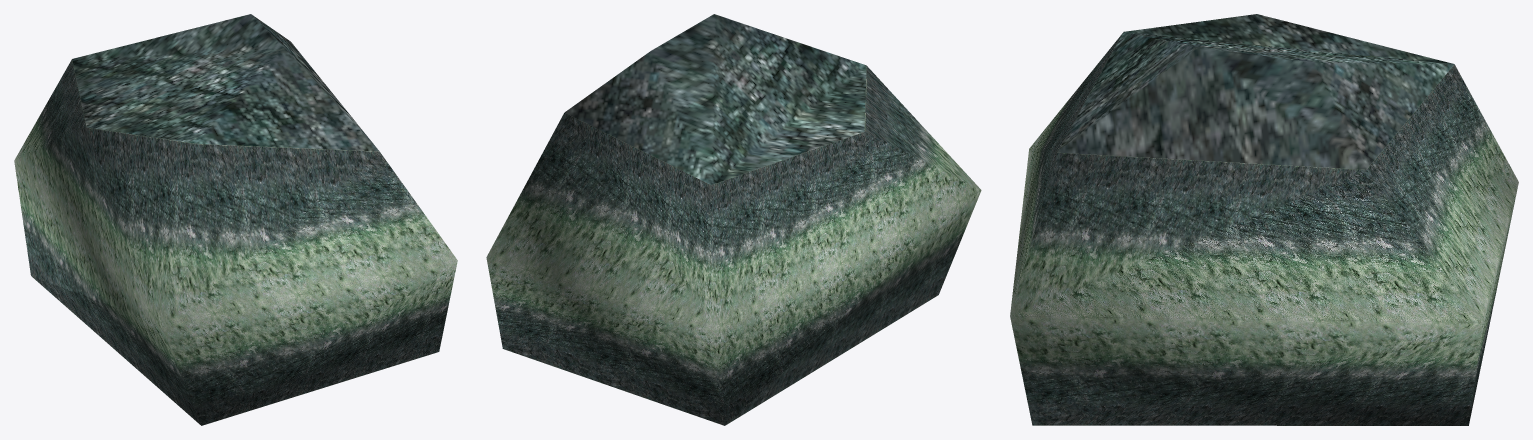
The model's file is rock_beach_dark_md_l3.fbx.
The picture shows the model from 3 angles, left to right: view 1: azimuth 30°, elevation 25°; view 2: azimuth 150°, elevation 25°; view 3: azimuth 270°, elevation 25°; orthographic projection. The views are drawn at different scales.
Visible parts, largest first — view 1: mesh_node; view 2: mesh_node; view 3: mesh_node.
Boxes of the visible parts, bbox=[...] form: mesh_node: bbox=[14, 14, 457, 425]; mesh_node: bbox=[486, 14, 981, 425]; mesh_node: bbox=[1010, 14, 1518, 425].
Bounding box in the file's own units: 5.75 × 5.35 × 7.11.
